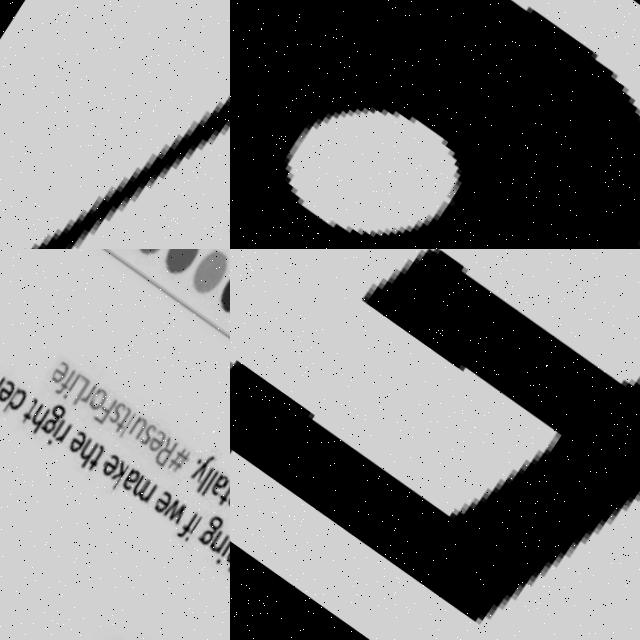A: (203, 464, 230, 497), (115, 462, 139, 491)
D: (0, 383, 27, 419)
E: (95, 447, 120, 477), (142, 421, 167, 451), (45, 354, 69, 384), (148, 484, 172, 513), (62, 425, 86, 453), (0, 375, 15, 403)
F: (230, 249, 640, 640), (171, 504, 197, 537), (89, 391, 114, 422), (51, 364, 76, 395)
G: (34, 396, 66, 435), (192, 506, 223, 543)
H: (69, 433, 97, 467), (21, 399, 48, 433), (215, 533, 230, 567)
I: (41, 413, 64, 446), (59, 368, 79, 399), (210, 531, 230, 560), (179, 510, 199, 539)
K: (102, 456, 127, 489)
L: (63, 371, 87, 402), (114, 407, 134, 437), (196, 464, 216, 493), (191, 461, 211, 489)
M: (126, 469, 155, 501)
N: (0, 0, 230, 249), (204, 523, 226, 550), (221, 477, 230, 505)
O: (230, 0, 640, 249), (82, 381, 109, 412)
R: (148, 431, 177, 466), (49, 417, 70, 442), (75, 377, 95, 402)
S: (134, 417, 155, 442), (104, 396, 125, 421)
T: (80, 438, 106, 471), (108, 399, 133, 431), (15, 393, 40, 424), (211, 472, 230, 503)
U: (124, 409, 147, 437)
W: (158, 490, 186, 521)
Y: (185, 444, 214, 481)
